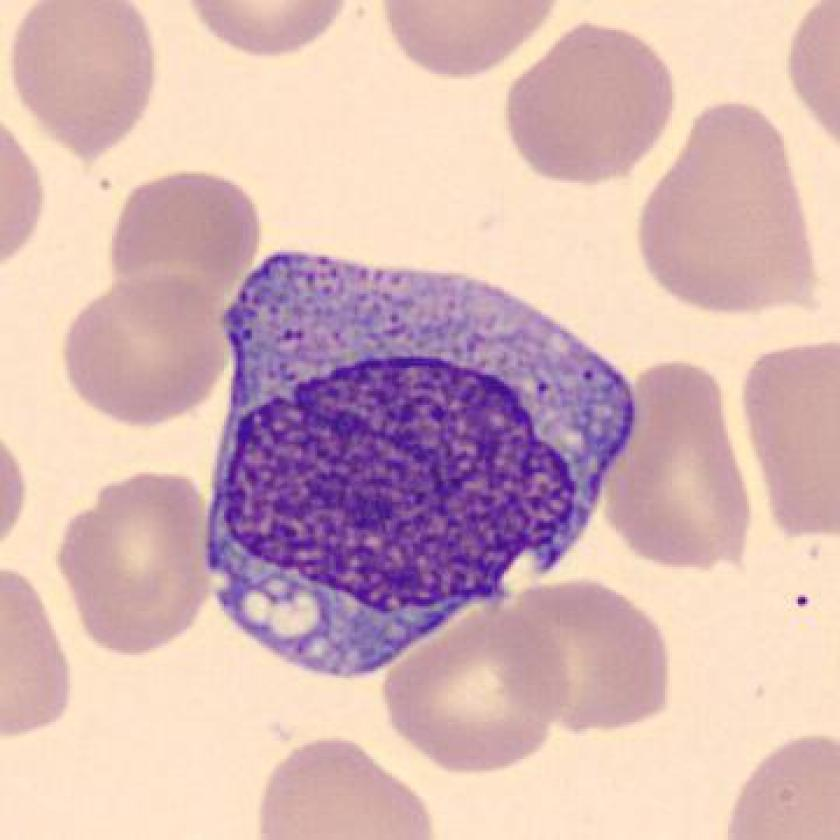monocyte: (183, 233, 654, 698)
